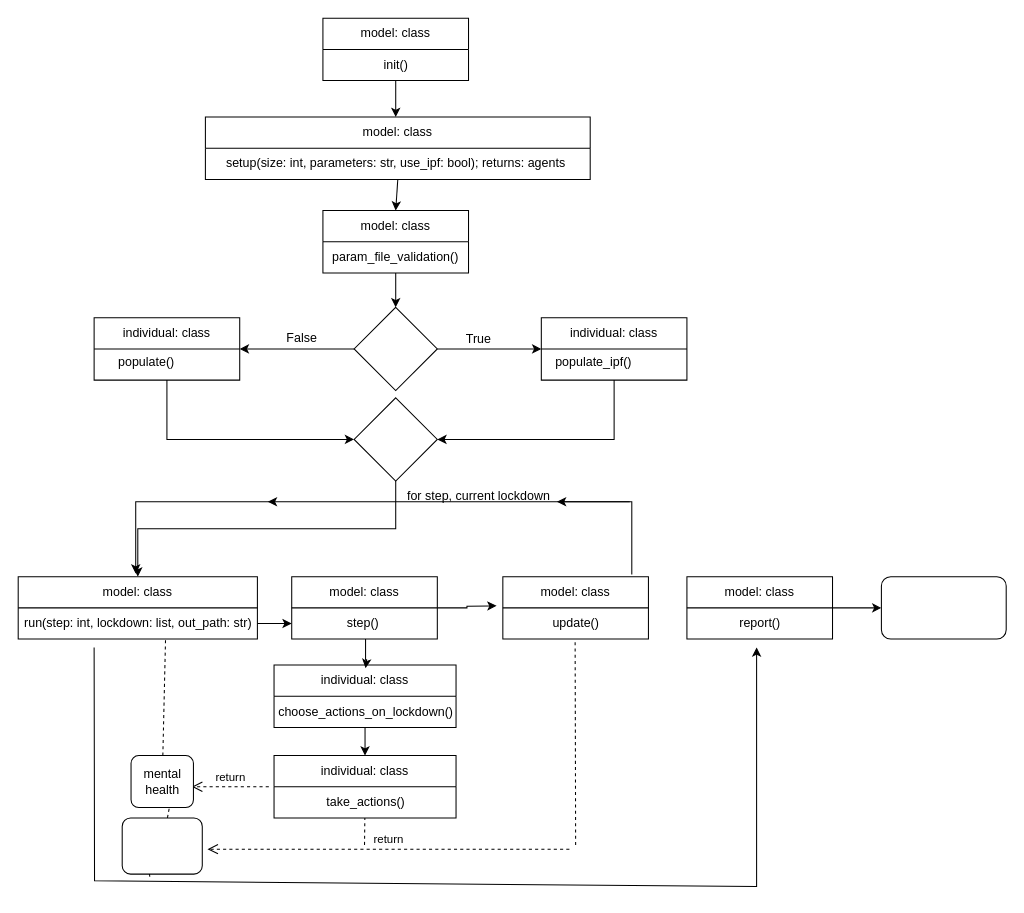
Image size: 1024x913. Some labels were removed from this diagram. The centre of each missing label's shape, as x and y in pixels:
"agents" goes at point 395,439.
"cumulative mental health" goes at point 161,845.
"produces csv file" goes at point 943,607.
"use_ipf" goes at point 395,348.
